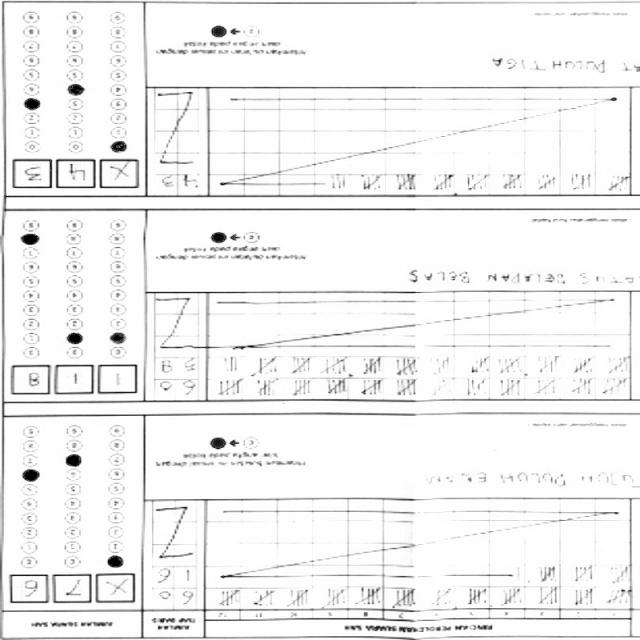Suara: (10, 573, 144, 616), (7, 359, 144, 400), (7, 158, 144, 194)
